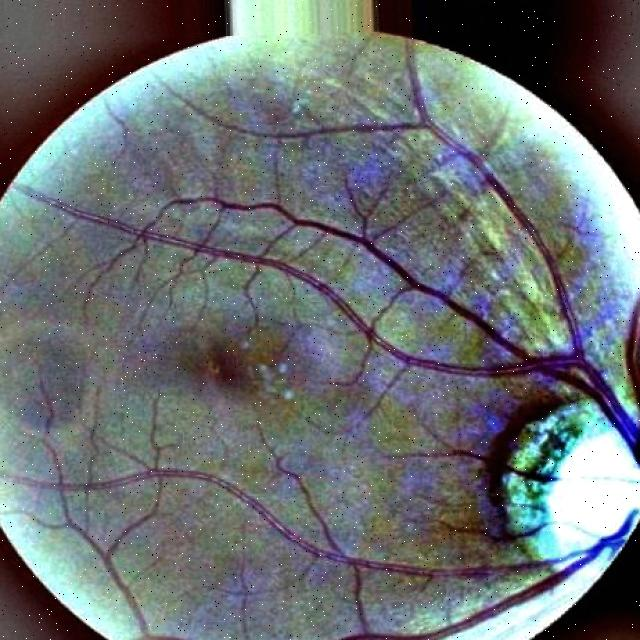Macula: (191, 333, 276, 407)
Nerves: (117, 91, 640, 462), (10, 454, 551, 589), (132, 560, 584, 640)
Optic Disk: (503, 377, 640, 587)
